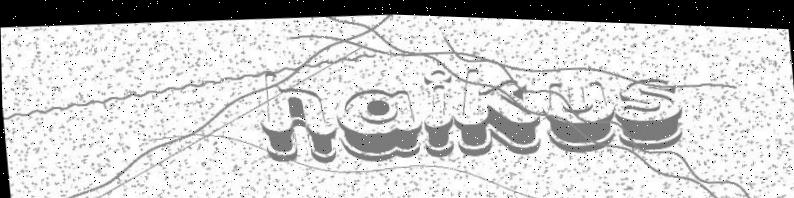a: (333, 82, 424, 162)
h: (256, 65, 338, 165)
i: (418, 66, 456, 156)
k: (451, 60, 543, 156)
s: (611, 71, 685, 149)
u: (540, 74, 618, 152)
